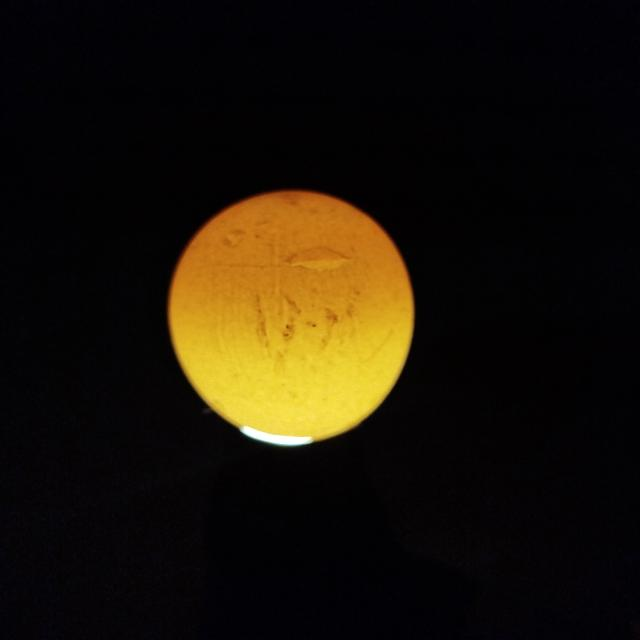Rachadura: (287, 247, 353, 272)
